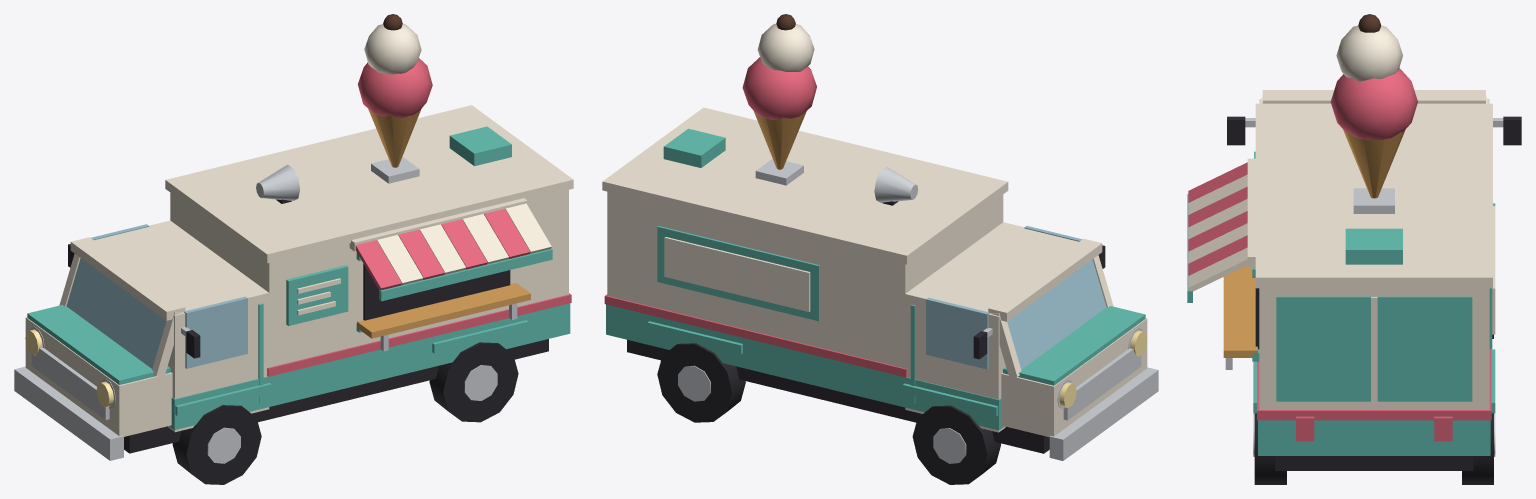
File: camionglaces.glb
The picture shows the model from 3 angles, left to right: view 1: azimuth 30°, elevation 25°; view 2: azimuth 150°, elevation 25°; view 3: azimuth 270°, elevation 25°; orthographic projection. The views are drawn at different scales.
Parts seen in each view (by area): view 1: roof_cap, body_shell, cab_shell, body_skirt, hood, windshield, tyre_rear_l, tyre_front_l, hood_crown, chassis, bumper, counter (+28 smaller); view 2: roof_cap, body_shell, cab_shell, body_skirt, side_panel_r_inner, hood, windshield, tyre_rear_r, tyre_front_r, hood_crown, chassis, side_panel_r (+17 smaller); view 3: roof_cap, rear_panel, body_shell, body_skirt, scoop_strawberry, chassis, counter, scoop_vanilla, body_beltline, roof_vent, roof_cone, windshield_header (+18 smaller).
Boxes of the visible parts, x1,y1,x2,y2 form: roof_cap: (165, 105, 573, 263); body_shell: (170, 190, 568, 367); cab_shell: (94, 220, 269, 432); body_skirt: (268, 303, 570, 406); hood: (25, 317, 172, 436); windshield: (66, 258, 166, 368); tyre_rear_l: (429, 342, 518, 422); tyre_front_l: (172, 405, 261, 484); hood_crown: (27, 305, 170, 384); chassis: (124, 339, 548, 453); bumper: (14, 366, 123, 460); counter: (357, 283, 530, 338); roof_cap: (602, 107, 1008, 264); body_shell: (607, 191, 1003, 368); cab_shell: (905, 222, 1078, 432); body_skirt: (606, 304, 905, 407); side_panel_r_inner: (664, 237, 810, 311); hood: (1001, 318, 1147, 437); windshield: (1007, 259, 1106, 369); tyre_rear_r: (657, 343, 745, 422); tyre_front_r: (912, 405, 1000, 484); hood_crown: (1003, 306, 1145, 385); chassis: (627, 340, 1049, 453); side_panel_r: (657, 226, 819, 321); roof_cap: (1255, 103, 1492, 288); rear_panel: (1276, 296, 1472, 401); body_shell: (1259, 288, 1489, 409); body_skirt: (1258, 420, 1490, 455); scoop_strawberry: (1330, 68, 1417, 139); chassis: (1275, 456, 1473, 470); counter: (1223, 265, 1257, 357); scoop_vanilla: (1336, 25, 1402, 81); body_beltline: (1257, 349, 1491, 420); roof_vent: (1345, 228, 1402, 264); roof_cone: (1343, 130, 1405, 198); windshield_header: (1262, 90, 1485, 103).
Bounding box in the file's own units: 5.39 × 4.25 × 2.9.
